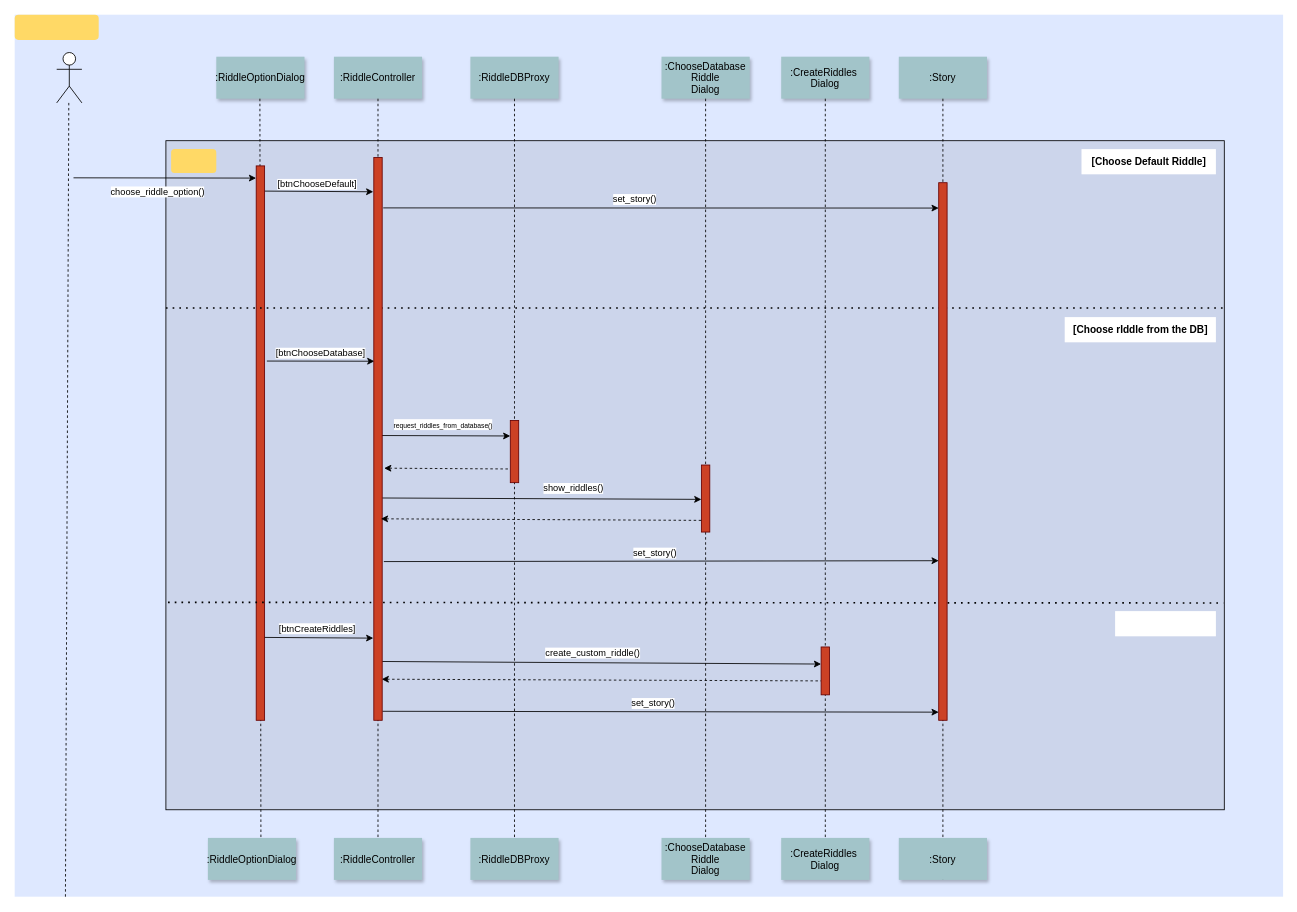
This 1297x912 diagram has some shape labels left out. Here are the shapes that lost their labels. From the top down, the centre of each, then its label:
At (x=56, y=26): "Choose Riddle".
At (x=69, y=77): "GameMaster".
At (x=193, y=161): "alt".
At (x=1165, y=623): "[Custom Riddle]".
